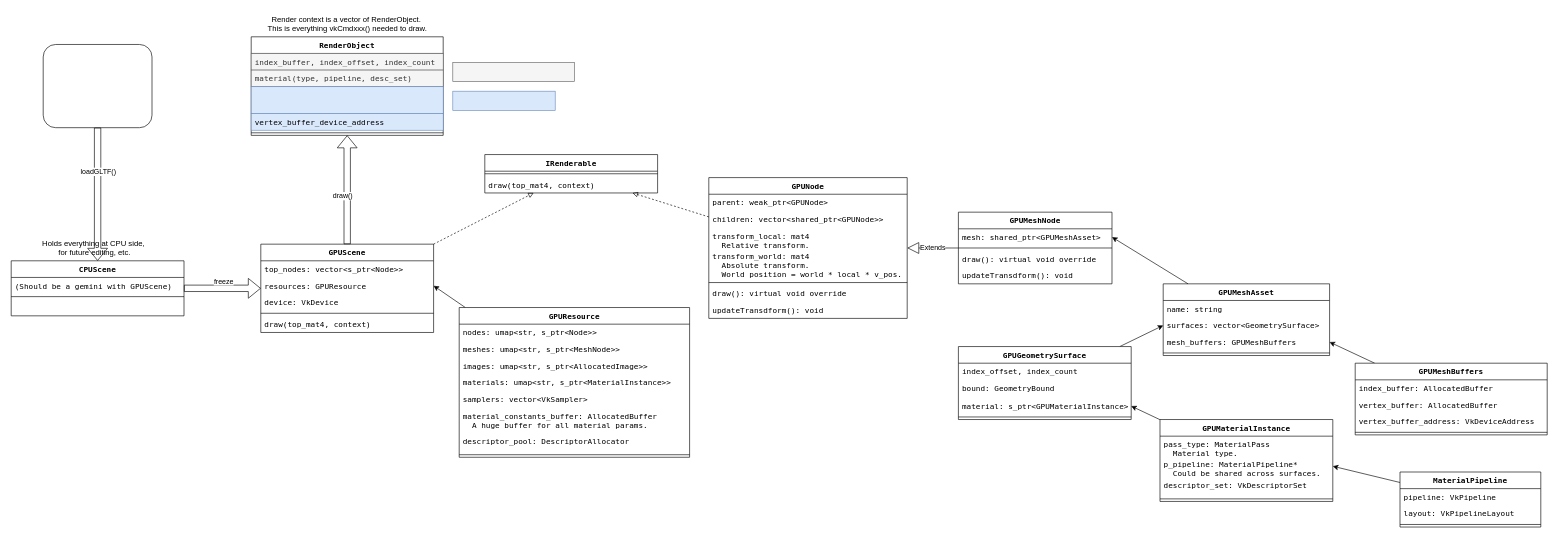
The diagram is 1558 pixels wide and 538 high, and some of its shapes have lost their labels. Here are the shapes that lost their labels. From the top down, the centre of each, then its label:
At [97,86]: "GLTF File".
At [513,72]: "to be bound to command buffer".
At [347,100]: "transform Can be used for fast duplication.".
At [503,100]: "to be pushed as constants".
